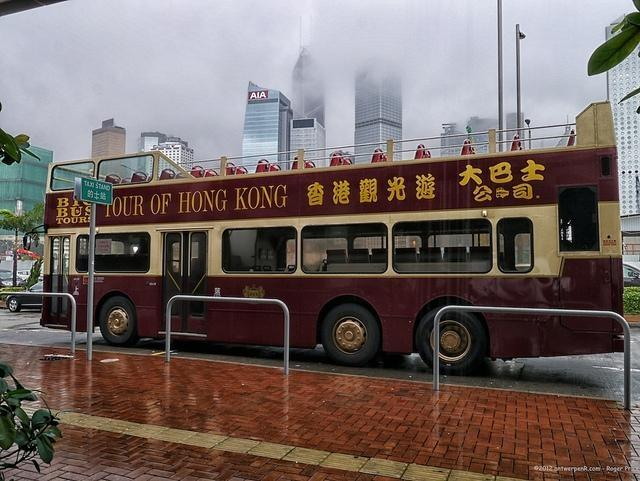car: (0, 285, 45, 314), (0, 269, 28, 288)
